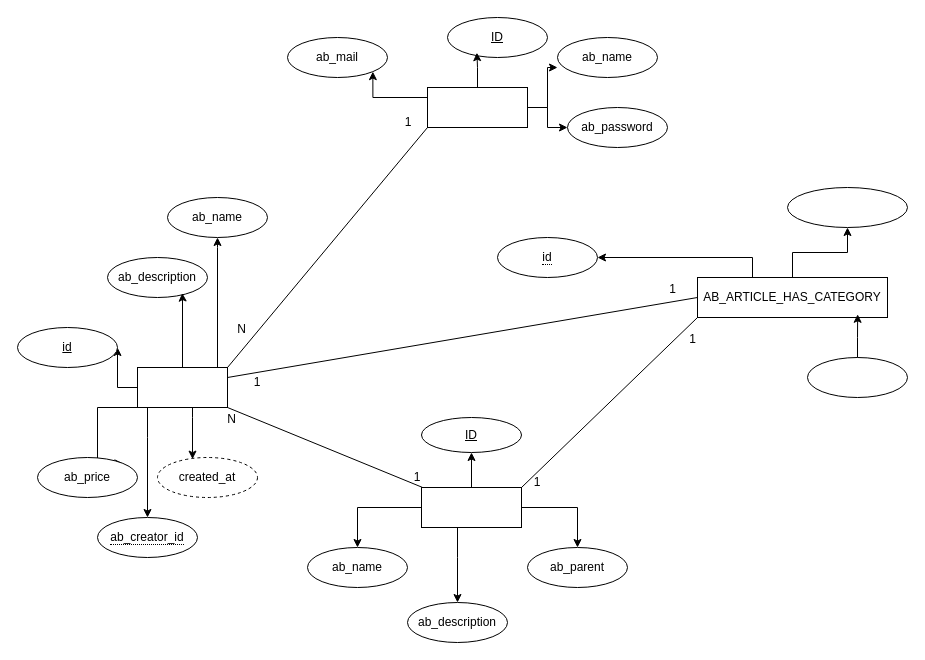
Image size: 925x660. Some labels were removed from this diagram. The shapes that lost their labels are listed below. From the top down, each one's centre as x and y in pixels, then its label:
At [477,107]: "AB_USER".
At [847,207]: "ab_articlecategory_id".
At [182,387]: "AB_ARTICLE".
At [857,377]: "ab_article_id".
At [471,507]: "ab_articlecategory".
